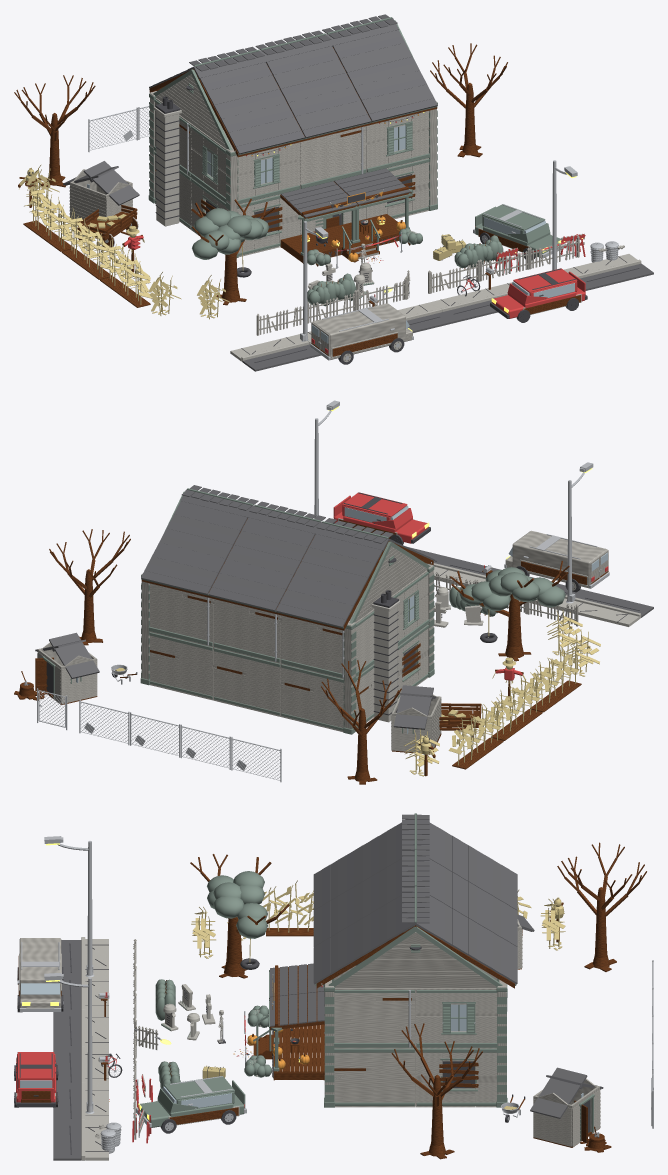
Rendered from halloween-slasher-street-dead-end-street-525afad0-starter-scene__27331.glb.
3 renders of one model, top to bottom at view 1: azimuth 30°, elevation 25°; view 2: azimuth 150°, elevation 25°; view 3: azimuth 270°, elevation 25°, orthographic. The views are drawn at different scales.
Parts seen in each view (by area): view 1: 024-roof-slope-panel/1, 025-roof-slope-panel/1, 026-roof-slope-panel/1, 011-upper-floor-wall-bay/0, 035-block-chimney-stack/0, 088-panel-van/0, 064-tyre-swing-tree/1, 012-upper-floor-window-bay/0, 010-upper-floor-window-bay/0, 089-station-wagon-faded/0, 087-station-wagon/0, 065-dead-oak-tree/0 (+50 smaller); view 2: 028-roof-slope-panel/1, 027-roof-slope-panel/1, 029-roof-slope-panel/1, 004-clapboard-wall-bay/0, 005-clapboard-wall-bay/0, 014-upper-floor-wall-bay/0, 003-clapboard-wall-bay/0, 015-upper-floor-wall-bay/0, 064-tyre-swing-tree/1, 013-upper-floor-wall-bay/0, 088-panel-van/0, 035-block-chimney-stack/0 (+39 smaller); view 3: 033-gable-end-wall/0, 019-upper-floor-wall-bay/0, 009-clapboard-wall-bay/0, 026-roof-slope-panel/1, 029-roof-slope-panel/1, 018-upper-floor-window-bay/0, 028-roof-slope-panel/1, 027-roof-slope-panel/1, 025-roof-slope-panel/1, 024-roof-slope-panel/1, 064-tyre-swing-tree/1, 008-boarded-window-bay/0 (+46 smaller).
Part boxes in pixels (x1,y1,x2,y2): 024-roof-slope-panel/1: (200, 62, 304, 154); 025-roof-slope-panel/1: (266, 46, 371, 137); 026-roof-slope-panel/1: (332, 30, 437, 121); 011-upper-floor-wall-bay/0: (299, 126, 366, 188); 035-block-chimney-stack/0: (153, 106, 181, 226); 088-panel-van/0: (312, 303, 412, 359); 064-tyre-swing-tree/1: (192, 208, 269, 259); 012-upper-floor-window-bay/0: (366, 111, 429, 172); 010-upper-floor-window-bay/0: (237, 142, 299, 204); 089-station-wagon-faded/0: (492, 268, 585, 318); 087-station-wagon/0: (475, 204, 562, 257); 065-dead-oak-tree/0: (430, 43, 507, 157); 028-roof-slope-panel/1: (208, 517, 315, 610); 027-roof-slope-panel/1: (276, 534, 382, 627); 029-roof-slope-panel/1: (141, 501, 247, 594); 004-clapboard-wall-bay/0: (213, 648, 281, 716); 005-clapboard-wall-bay/0: (149, 635, 213, 700); 014-upper-floor-wall-bay/0: (213, 599, 281, 663); 003-clapboard-wall-bay/0: (281, 664, 344, 731); 015-upper-floor-wall-bay/0: (149, 583, 213, 647); 064-tyre-swing-tree/1: (459, 567, 565, 610); 013-upper-floor-wall-bay/0: (281, 615, 343, 679); 088-panel-van/0: (505, 530, 607, 588); 035-block-chimney-stack/0: (371, 600, 400, 722); 033-gable-end-wall/0: (335, 932, 496, 987); 019-upper-floor-wall-bay/0: (334, 988, 415, 1048); 009-clapboard-wall-bay/0: (334, 1050, 415, 1107); 026-roof-slope-panel/1: (313, 895, 402, 984); 029-roof-slope-panel/1: (428, 895, 517, 984); 018-upper-floor-window-bay/0: (415, 988, 497, 1048); 028-roof-slope-panel/1: (429, 859, 517, 946); 027-roof-slope-panel/1: (429, 822, 517, 910); 025-roof-slope-panel/1: (313, 859, 402, 946); 024-roof-slope-panel/1: (313, 822, 402, 910); 064-tyre-swing-tree/1: (207, 871, 267, 938); 008-boarded-window-bay/0: (415, 1048, 497, 1107).
Bounding box in the file's own units: 26.96 × 9.41 × 29.67.
Materials: 12 (3 with a texture image).
